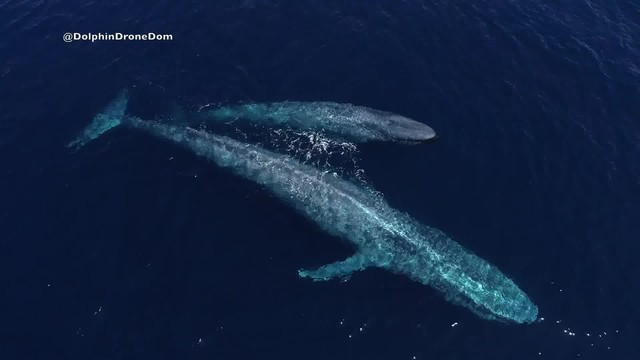whale: (65, 85, 542, 333), (141, 96, 443, 151)
